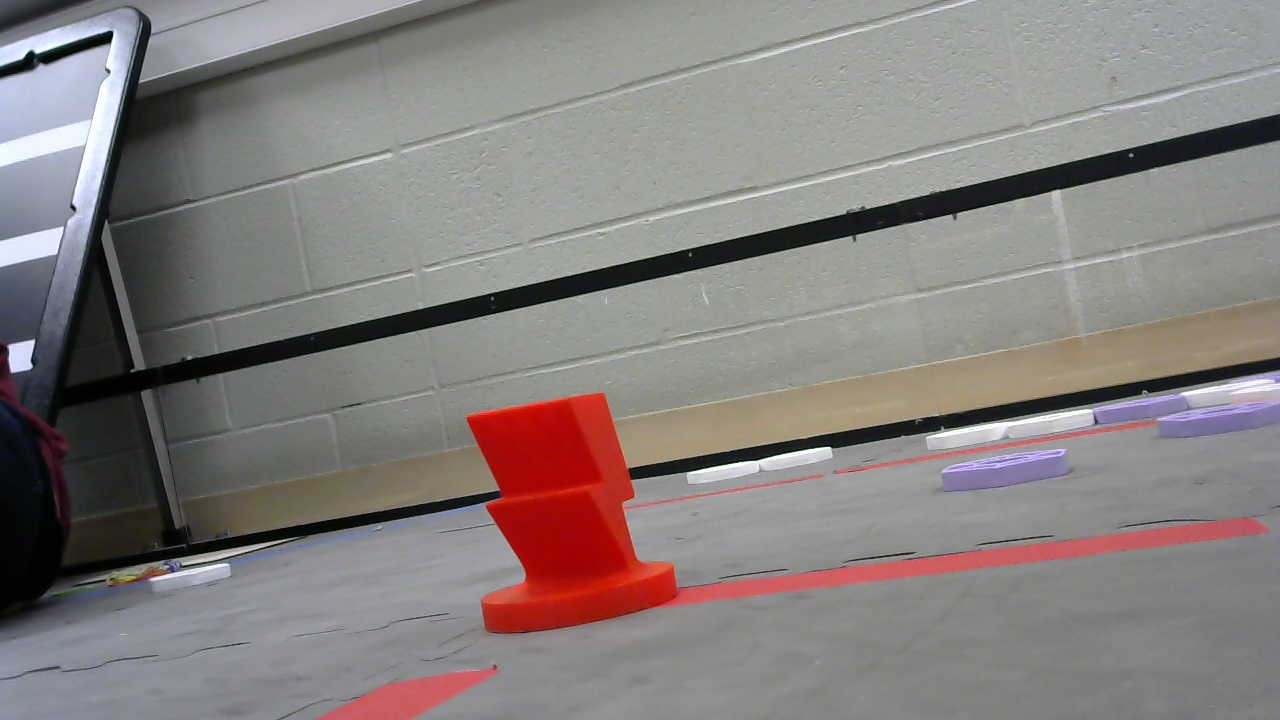redobject: (463, 391, 682, 637)
